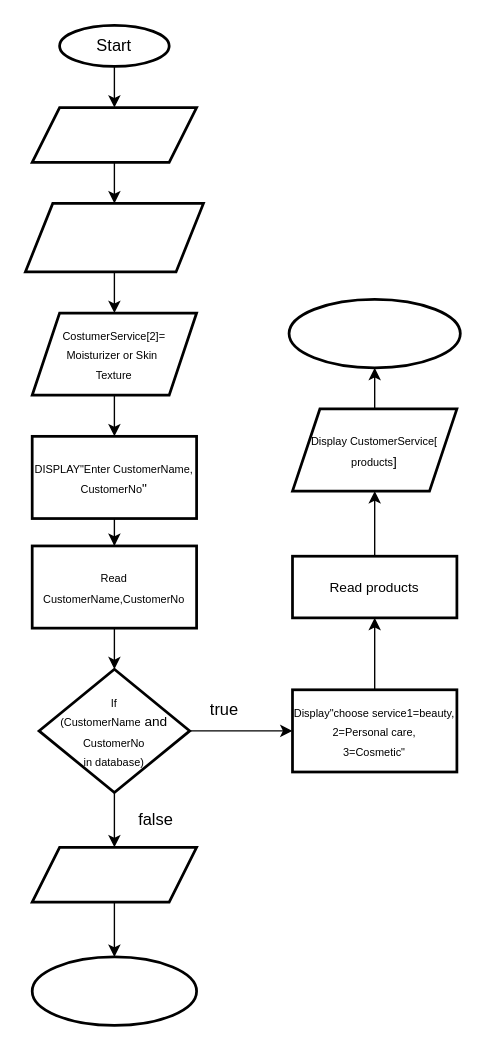
The diagram is 485 pixels wide and 1049 high, and some of its shapes have lost their labels. Each missing label, with the centre of its shape:
CostumerService[0]= Hairdressing: [113,134]
CostumerService[1]= Hair_Texture or Hair_Formula: [113,237]
Display "Error": [113,874]
Stop: [374,333]
